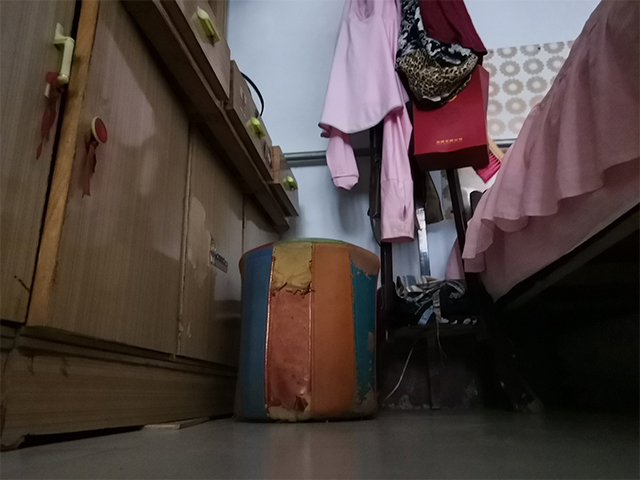bed: (466, 1, 640, 418)
cabinet: (1, 1, 303, 453)
stool: (231, 236, 383, 425)
